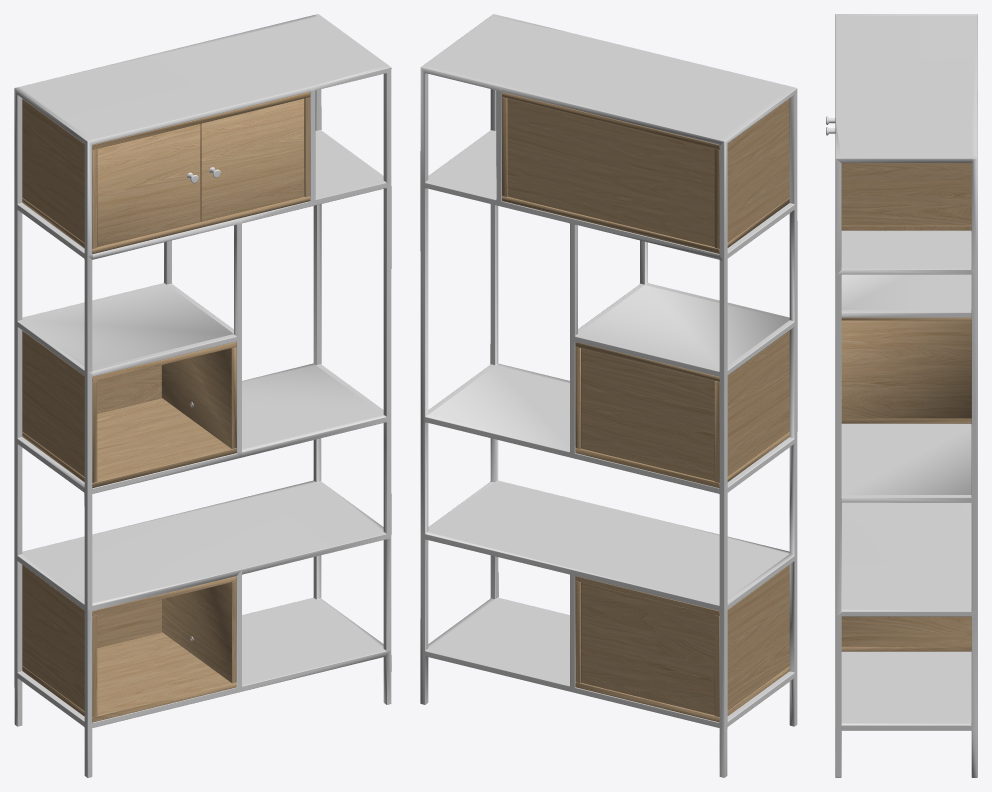
The model's file is foshay_bookcase_rack_glb.glb.
The picture shows the model from 3 angles, left to right: view 1: azimuth 30°, elevation 25°; view 2: azimuth 150°, elevation 25°; view 3: azimuth 270°, elevation 25°; orthographic projection. The views are drawn at different scales.
Parts seen in each view (by area): view 1: Foshay Bookcase (Rack); view 2: Foshay Bookcase (Rack); view 3: Foshay Bookcase (Rack).
Boxes of the visible parts, bbox=[...] form: Foshay Bookcase (Rack): bbox=[14, 14, 391, 777]; Foshay Bookcase (Rack): bbox=[420, 14, 797, 777]; Foshay Bookcase (Rack): bbox=[826, 14, 977, 777].
Bounding box in the file's own units: 0.9145 × 1.83 × 0.4059.
Materials: 4 (1 with a texture image).
